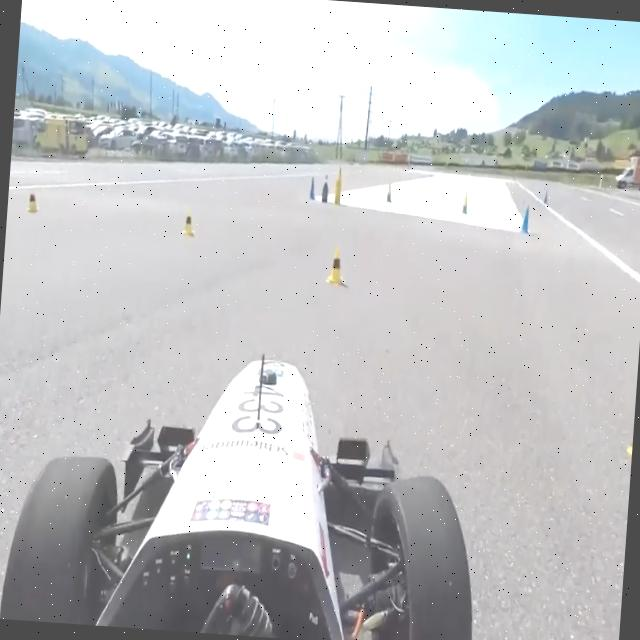yellow_cone: (325, 245, 348, 286), (182, 206, 196, 236), (27, 187, 41, 213)
